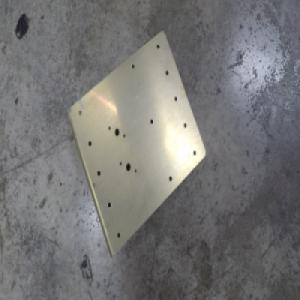MetalSheet: (65, 29, 207, 260)
